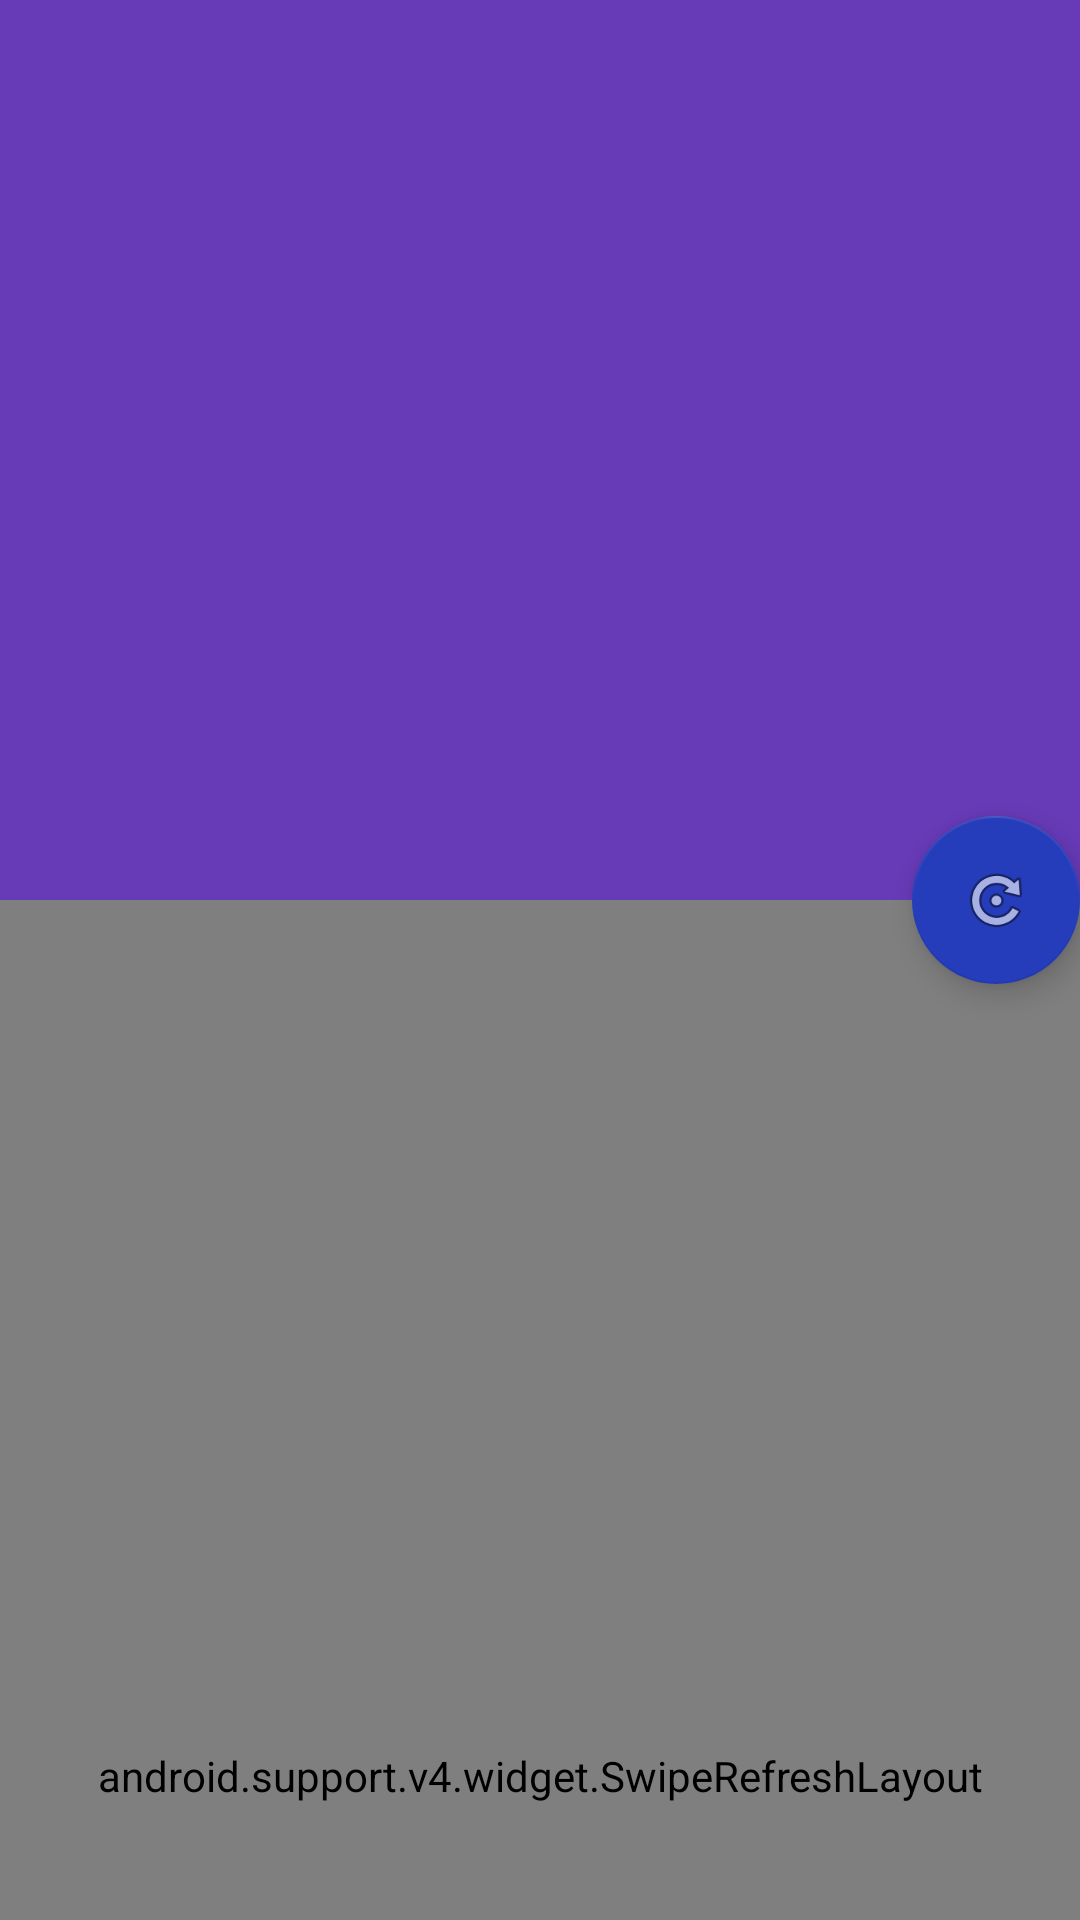

Icons on this 1080 x 1920 Android screen, each with the point to tap as point (x, y):
rotate: point (996, 900)
